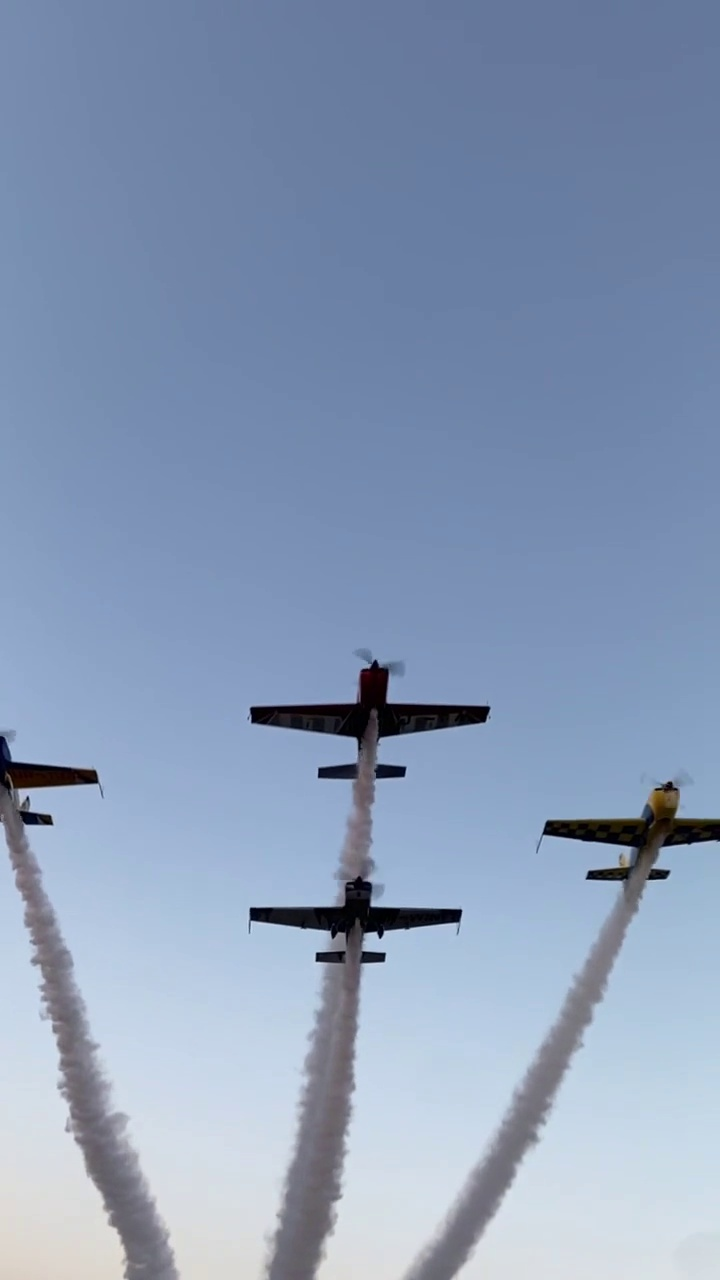plane: (248, 650, 491, 782), (245, 860, 465, 965), (535, 770, 720, 881), (0, 728, 102, 828)
